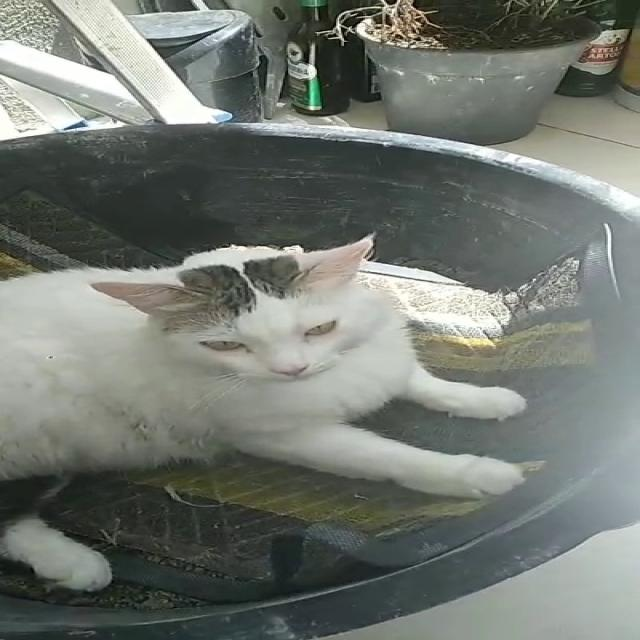Simba: (10, 213, 543, 596)
